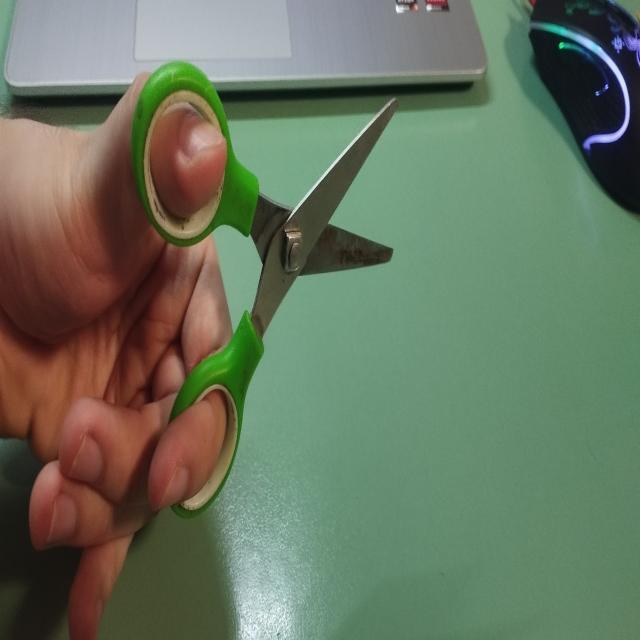tesoura: (127, 51, 406, 524)
